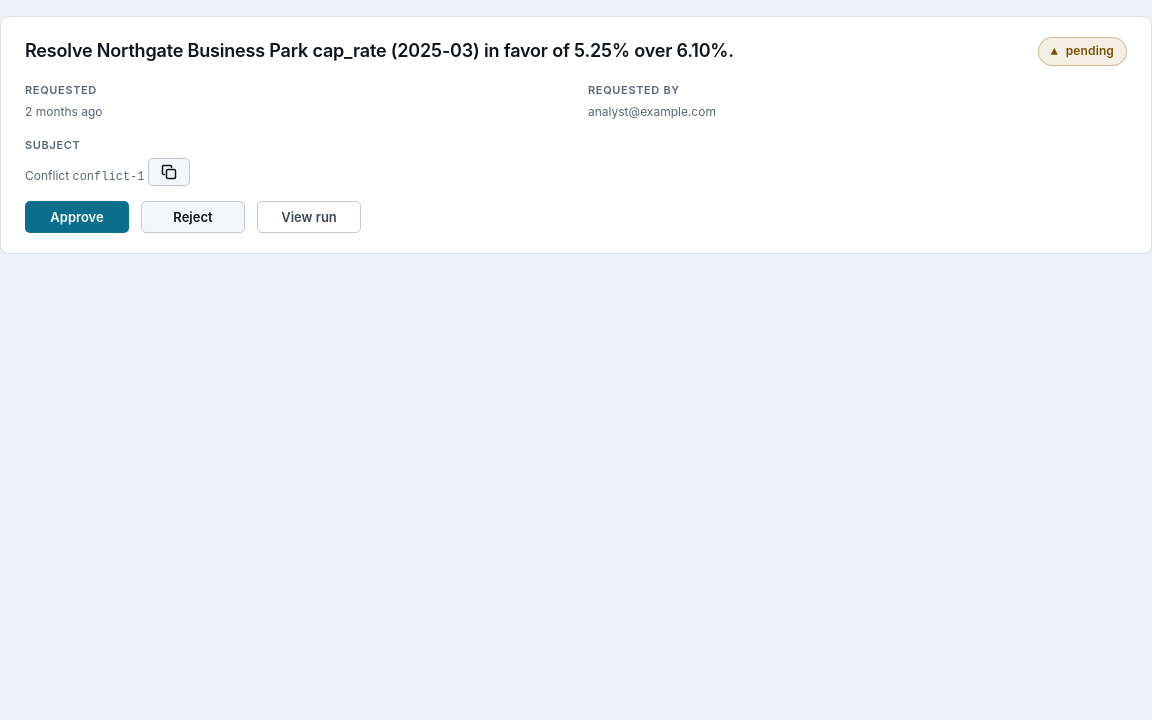
Scenario: DecisionCase › rejects with no reason typed, posting the decision alone
Click the button "Reject" at (193, 217), box [141,201,245,233]
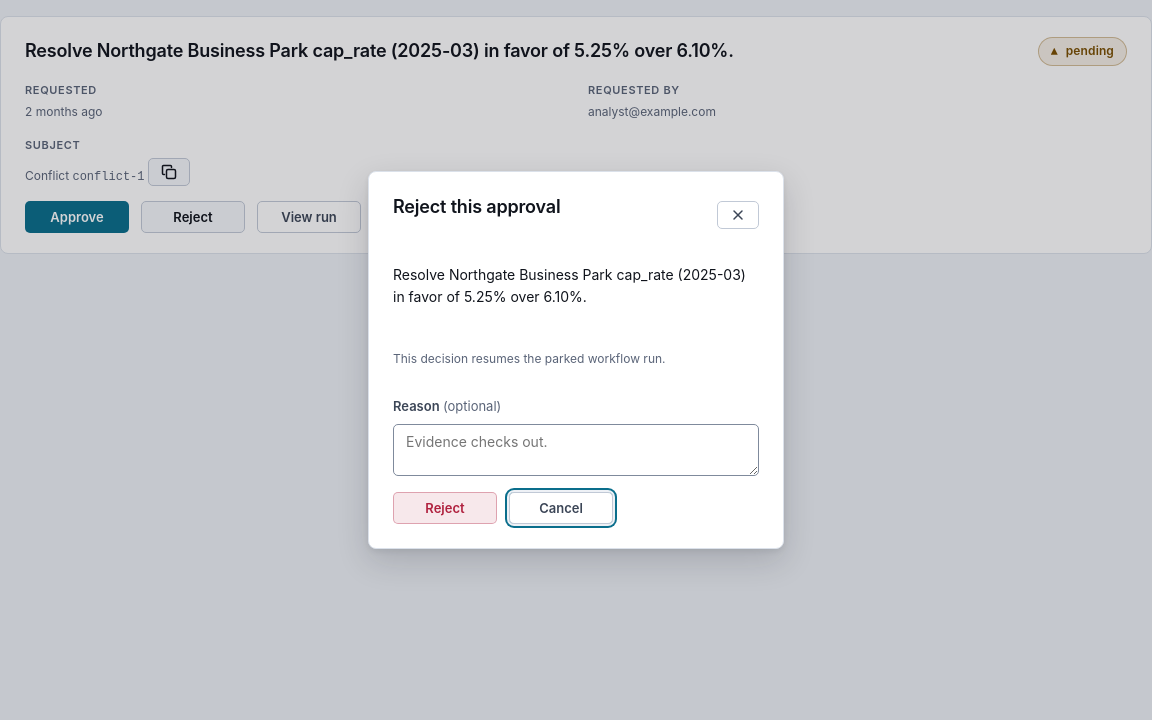
Click the button "Reject" at (445, 508), box [393,492,497,524]
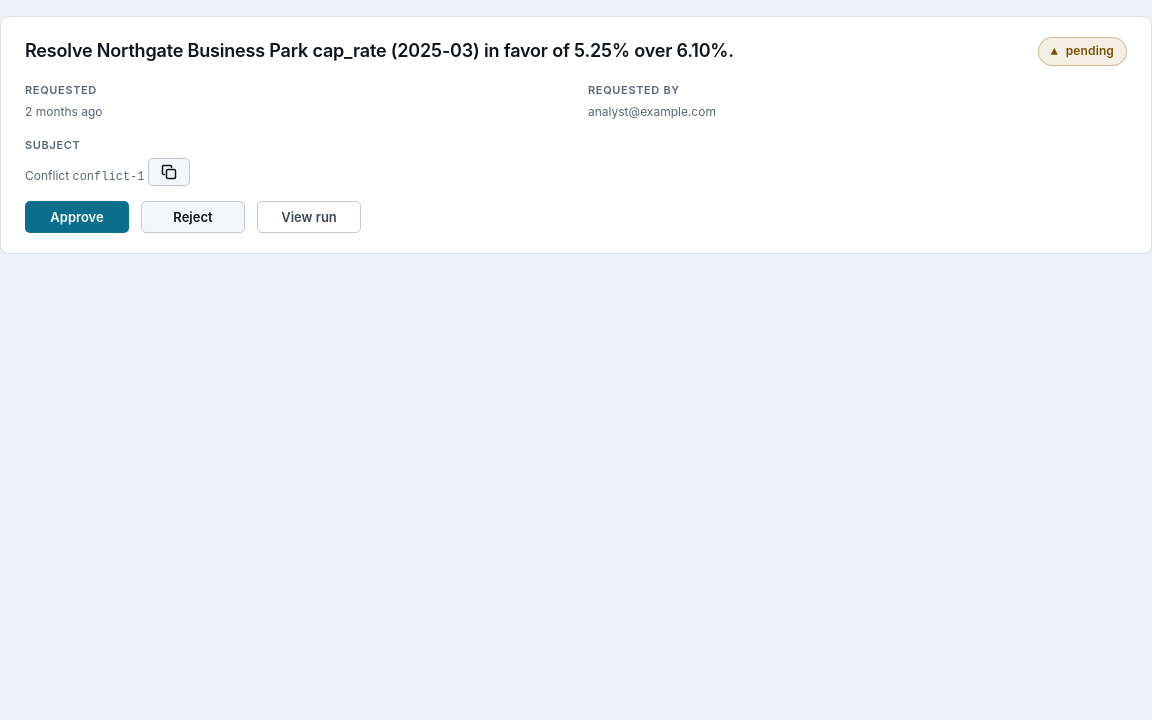
expect the dialog is gone: met
